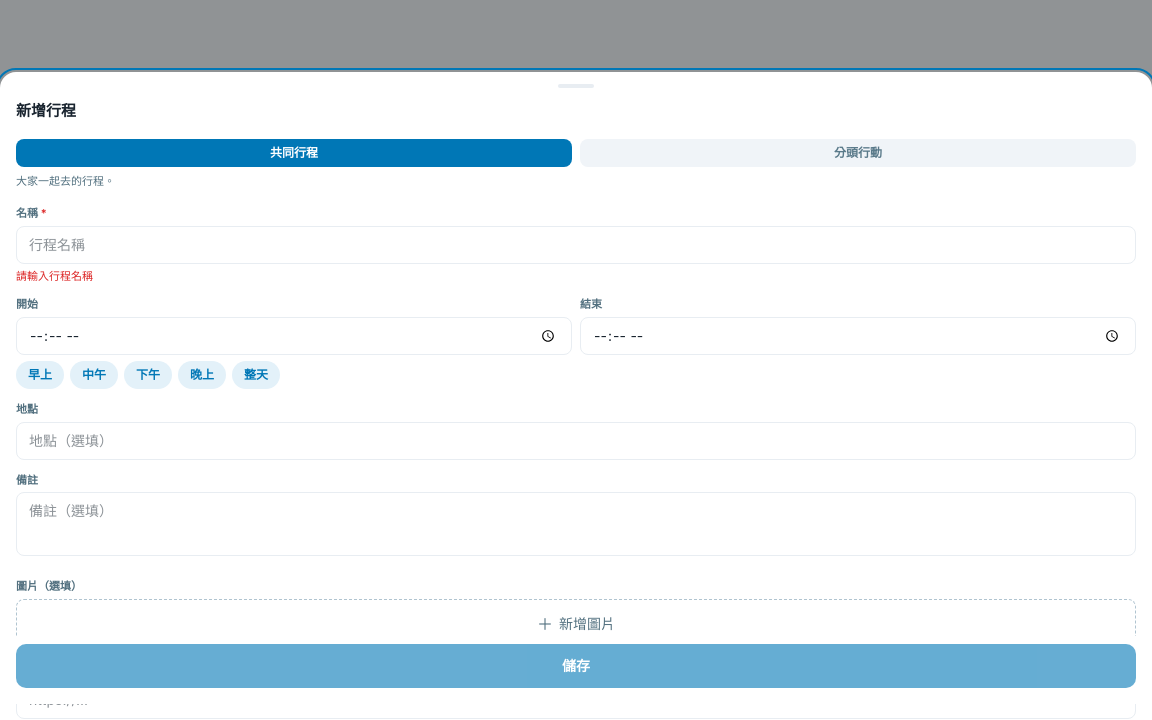
Test: EventSheet › disables save and shows a hint when the title is empty
Expected: the button "儲存" is disabled, [16, 644, 1136, 688]
Expected: the text "請輸入行程名稱" is shown, [16, 268, 93, 282]
Type "首里城" into the field with placeholder "行程名稱" at (576, 244), box [16, 226, 1136, 264]
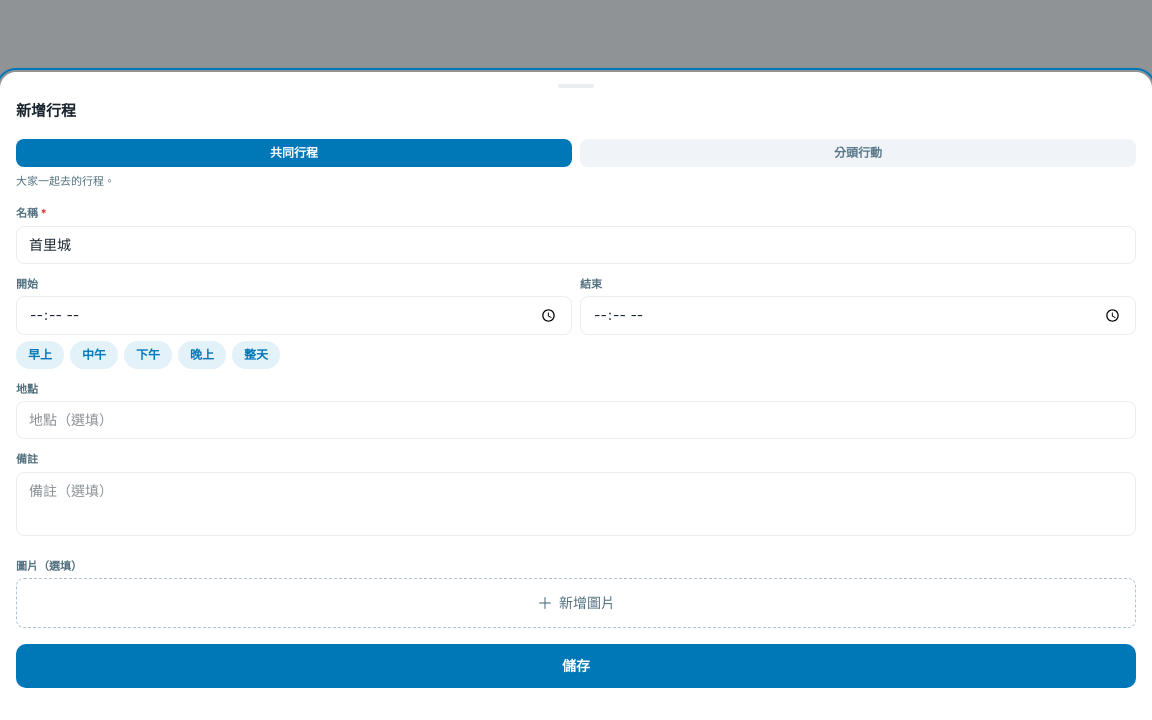
Result: the button "儲存" is enabled at [16, 644, 1136, 688]
Result: the text "請輸入行程名稱" is gone
